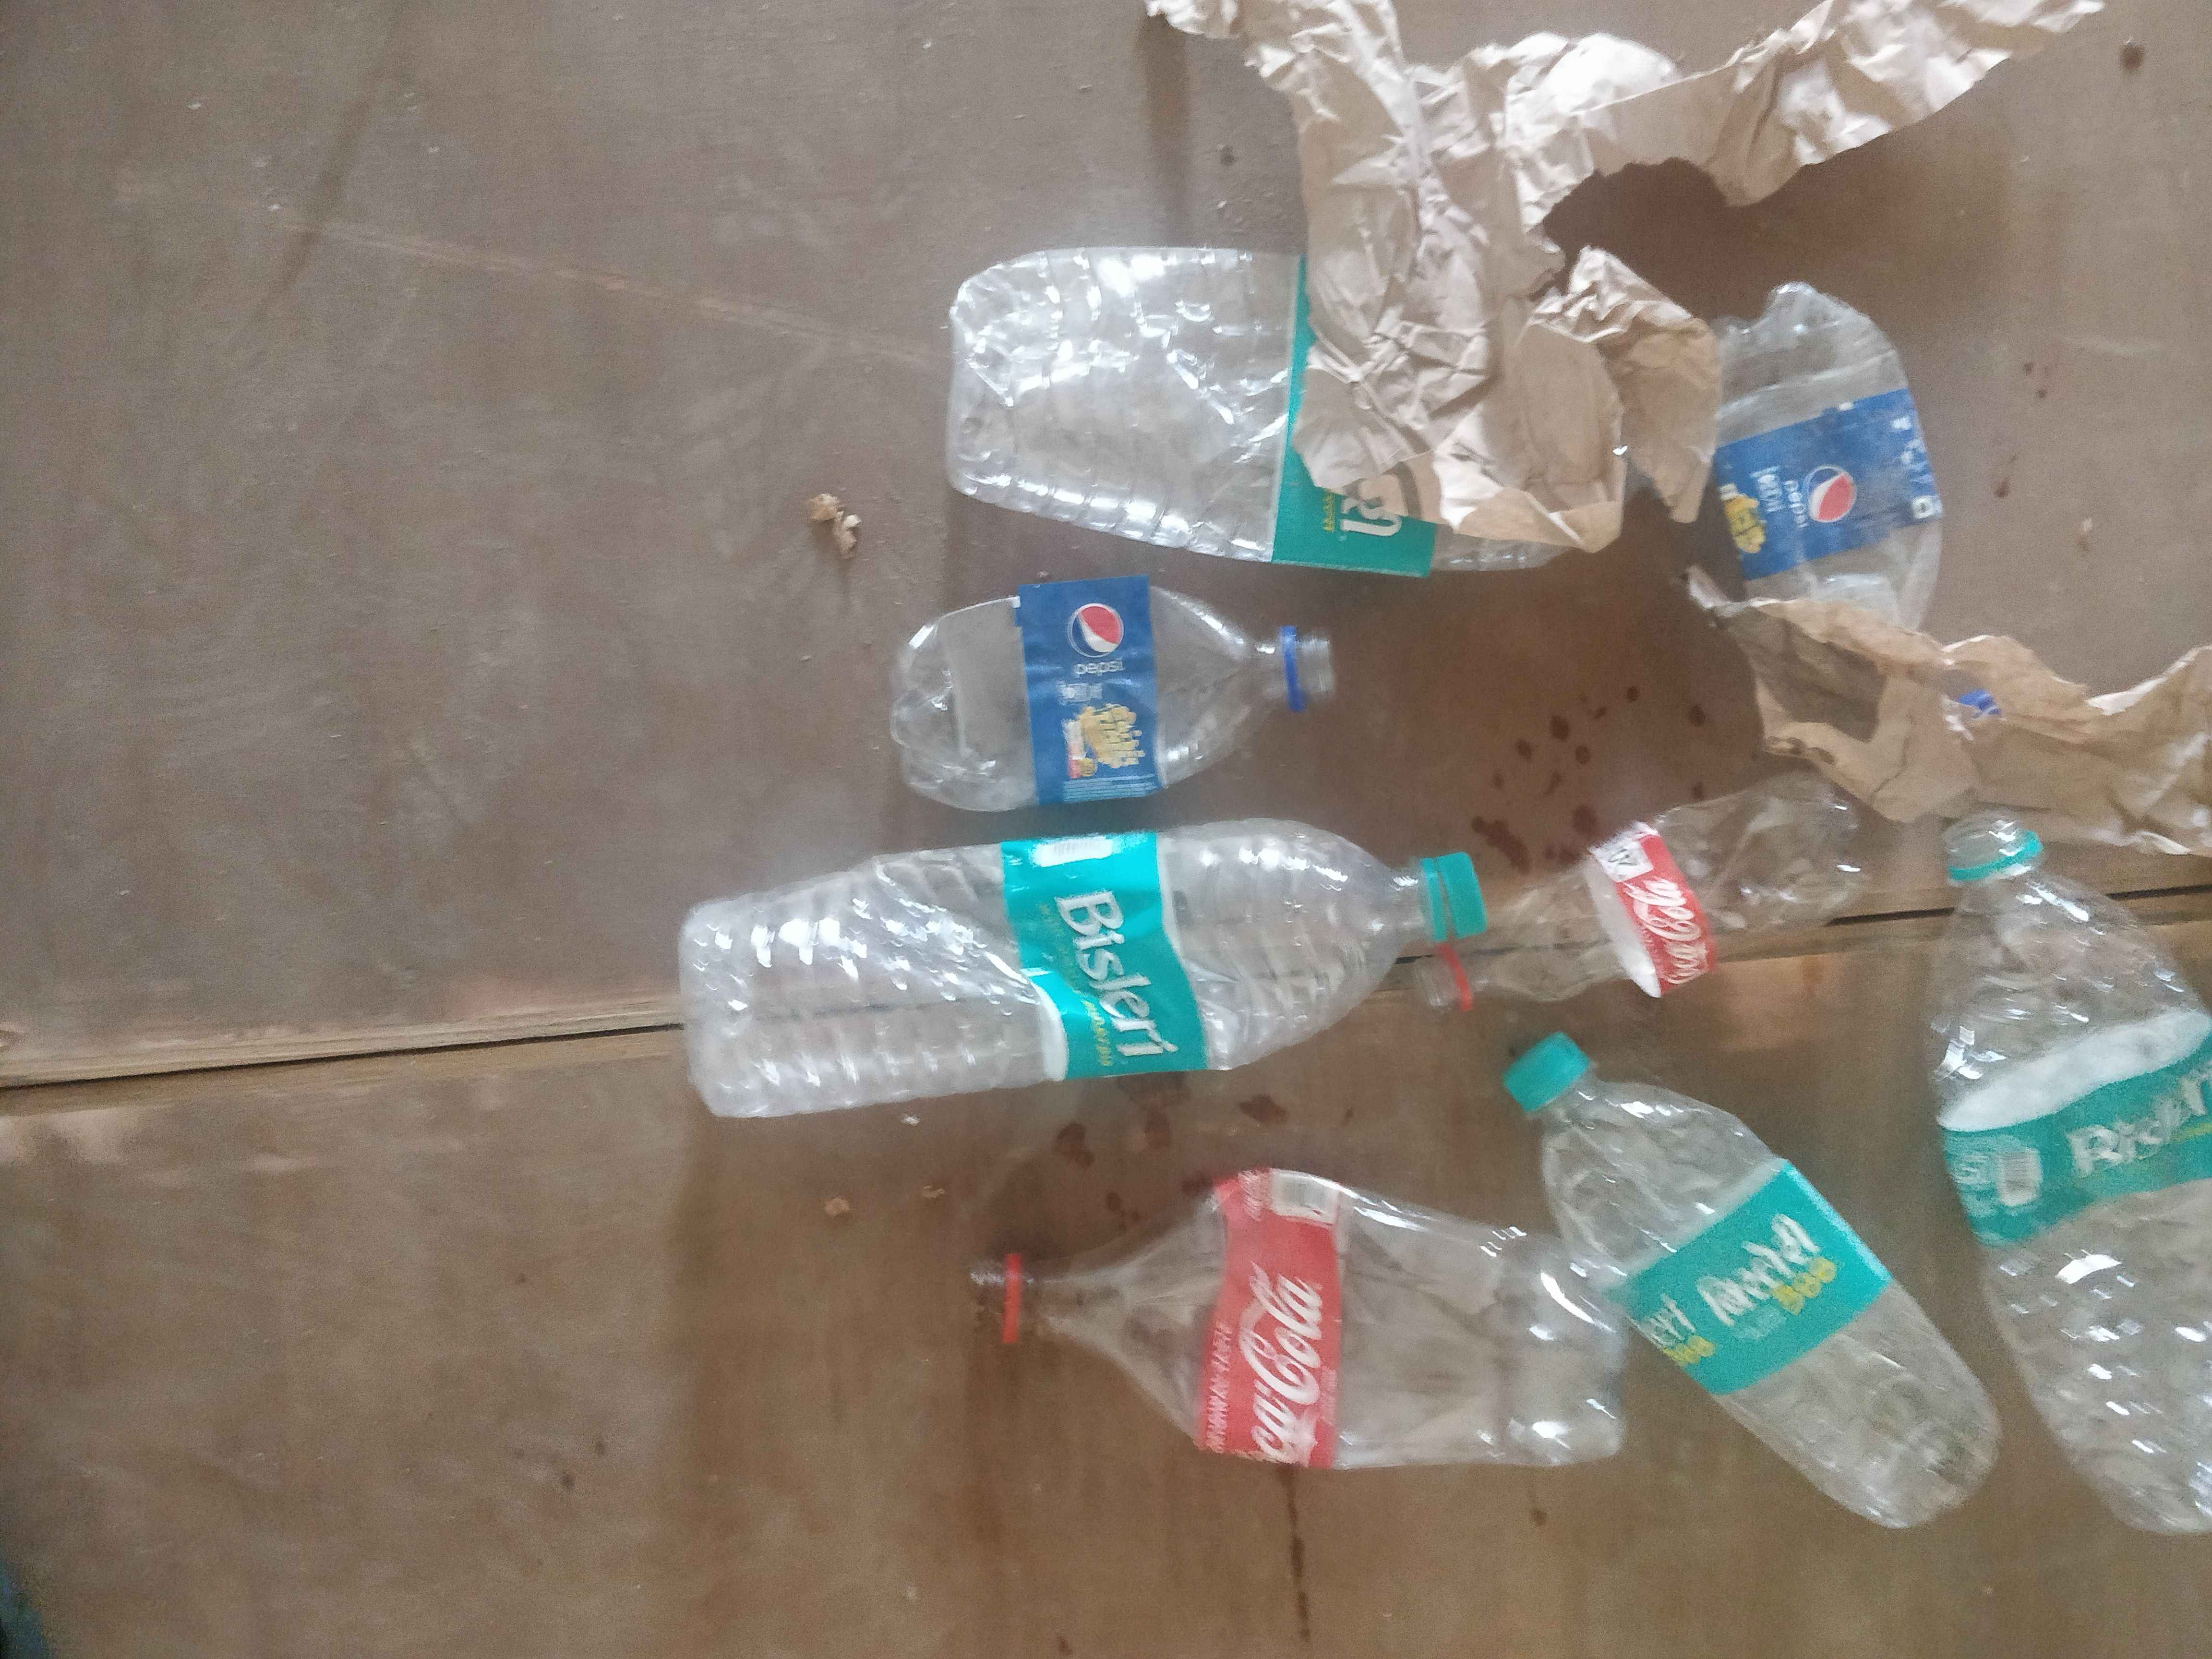Bisleri: (1989, 1058, 2212, 1248), (1038, 864, 1230, 1079), (1625, 1208, 1831, 1387), (1280, 491, 1461, 568)
Coca-Cola: (1214, 1225, 1315, 1473), (1616, 864, 1707, 1007)
pepsi: (1723, 399, 1918, 582), (1038, 582, 1176, 789)
